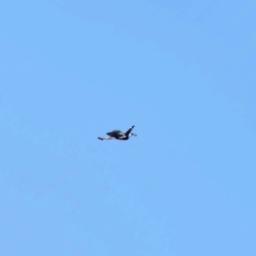Airplane: (97, 125, 137, 143)
